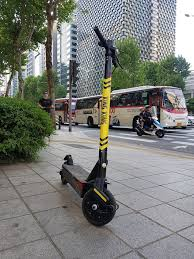kick_board: (58, 25, 123, 225)
kick_handler: (92, 27, 124, 69)
kick_neck: (95, 59, 113, 174)
kick_wheel: (82, 187, 116, 226), (57, 155, 73, 184)
